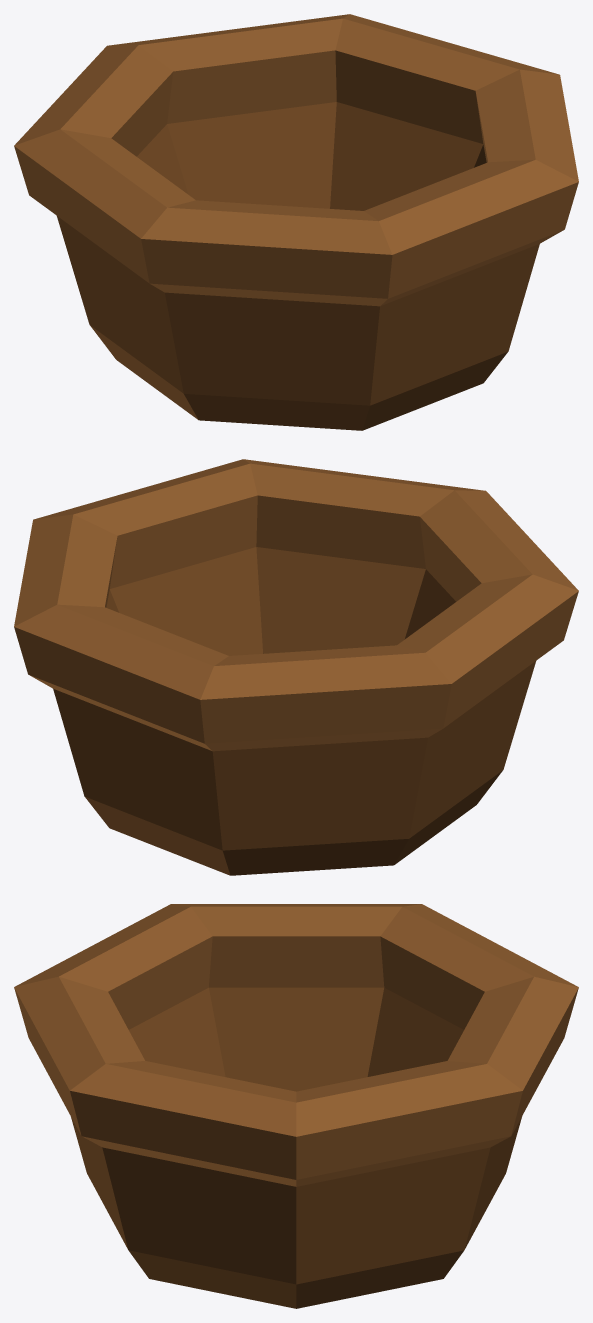
File: F_Bowl.fbx
3 views of the same model, one above another, from view 1: azimuth 30°, elevation 25°; view 2: azimuth 150°, elevation 25°; view 3: azimuth 270°, elevation 25° (orthographic).
Parts seen in each view (by area): view 1: F_Bowl; view 2: F_Bowl; view 3: F_Bowl.
Part boxes in pixels (x1,y1,x2,y2): F_Bowl: (14,14,578,430); F_Bowl: (14,459,578,875); F_Bowl: (14,904,578,1308).
Size of the model in its own units: 70.58 by 32.47 by 72.39.
